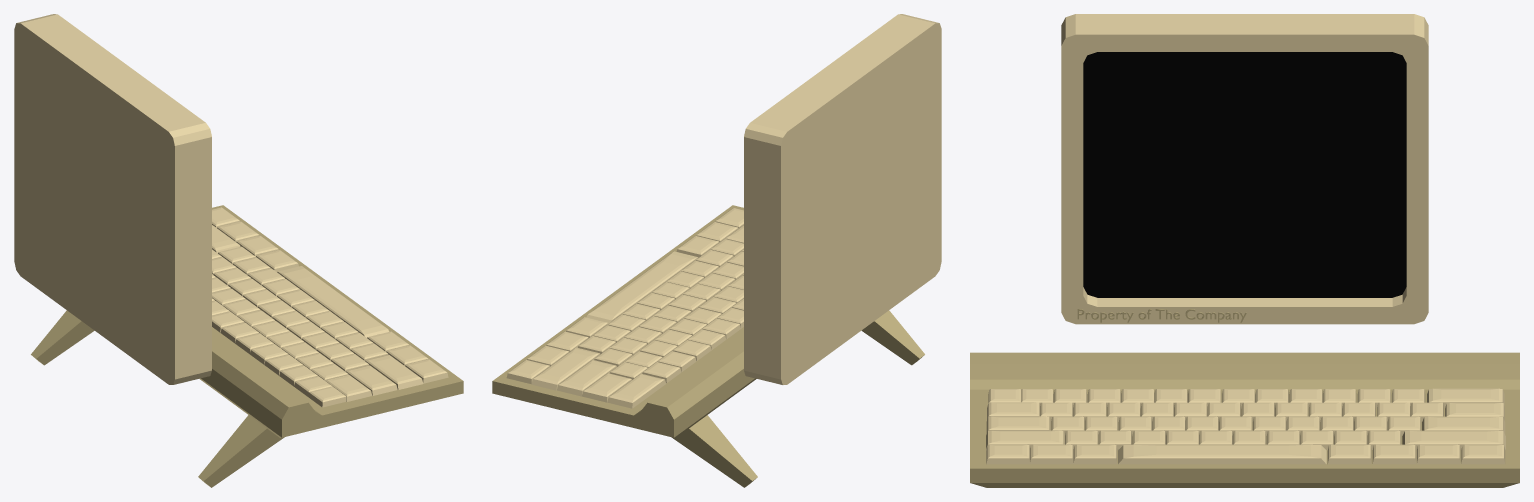
File: terminal-cruiser.fbx
3 views of the same model, side by side, from view 1: azimuth 30°, elevation 25°; view 2: azimuth 150°, elevation 25°; view 3: azimuth 270°, elevation 25° (orthographic). The views are drawn at different scales.
Visible parts, largest first — view 1: Cube, Cube.002, Cube.001; view 2: Cube, Cube.002, Cube.001; view 3: Cube, Cube.002, Cube.001, Text.
Boxes of the visible parts, <box> form: Cube: <box>14,14,211,384</box>; Cube.002: <box>212,207,448,407</box>; Cube.001: <box>31,205,463,487</box>; Cube: <box>744,14,941,384</box>; Cube.002: <box>506,208,743,408</box>; Cube.001: <box>492,205,924,487</box>; Cube: <box>1061,14,1428,324</box>; Cube.002: <box>986,388,1505,464</box>; Cube.001: <box>970,352,1519,487</box>; Text: <box>1077,309,1246,322</box>.
Bounding box in the file's own units: 206 × 280 × 344.
